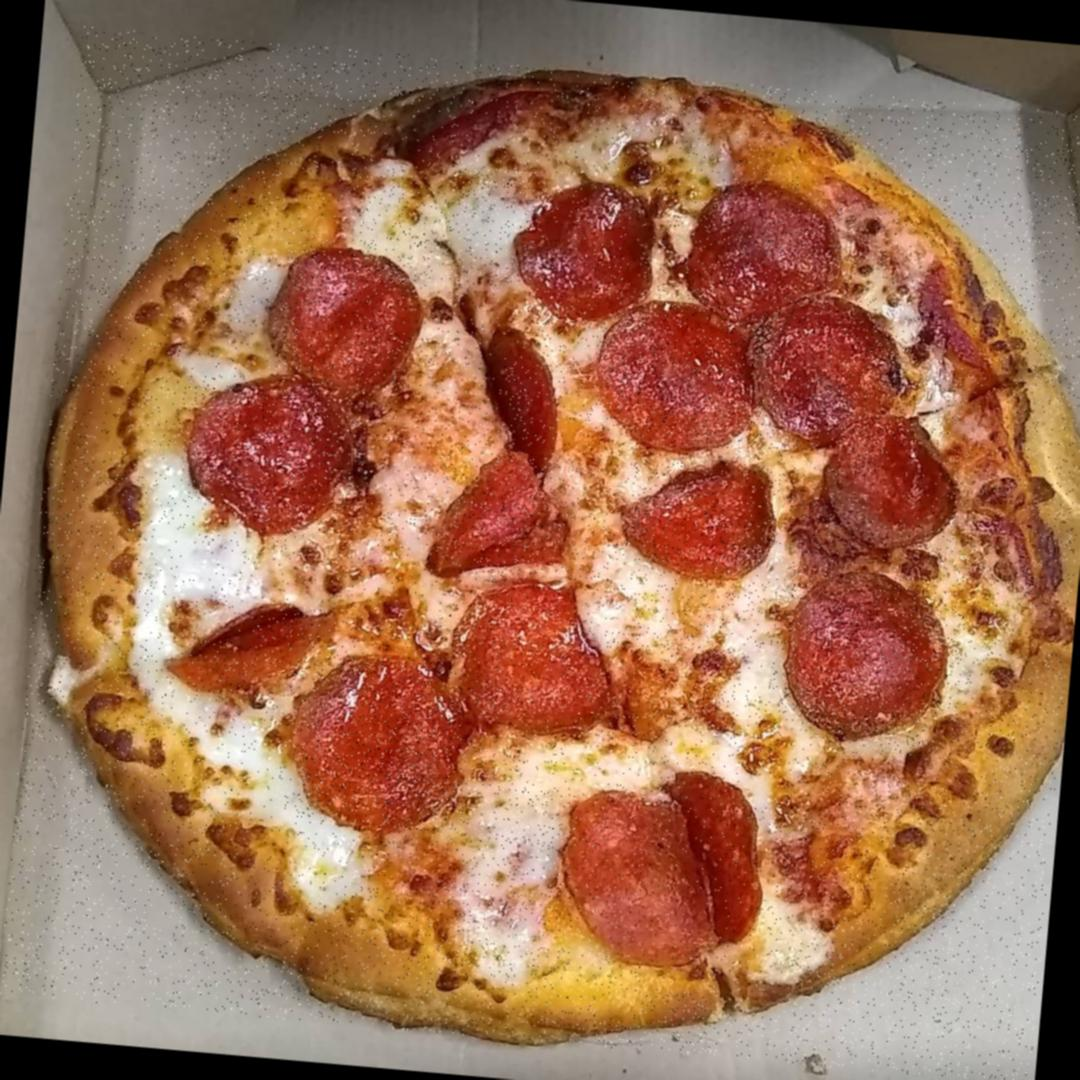Cheese: (586, 552, 792, 755), (438, 735, 586, 972), (138, 475, 264, 704), (358, 158, 540, 288)
Pepperoni: (590, 296, 915, 457), (545, 758, 778, 973), (762, 559, 970, 751), (296, 648, 465, 834), (179, 381, 363, 538), (435, 588, 639, 719), (793, 431, 964, 576), (504, 178, 662, 330), (416, 444, 582, 577), (276, 245, 412, 401), (614, 458, 781, 584), (681, 184, 862, 300), (175, 597, 327, 686), (462, 328, 566, 452)
Pizza: (0, 26, 1080, 1080)
